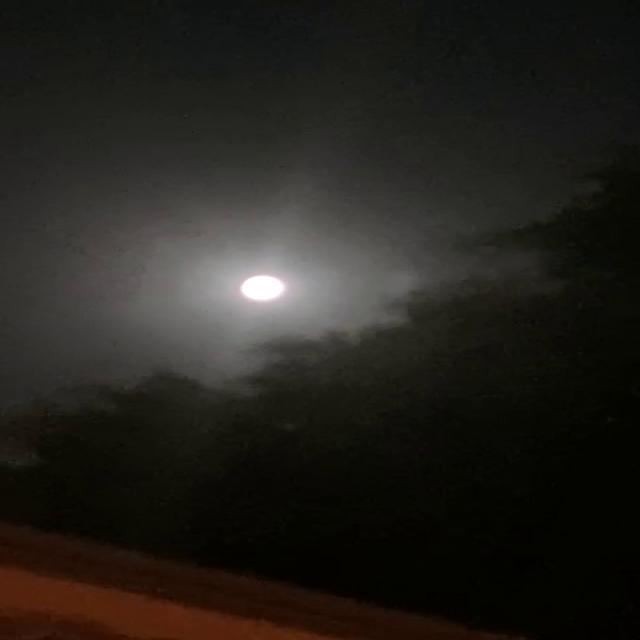moon: (235, 276, 318, 321)
